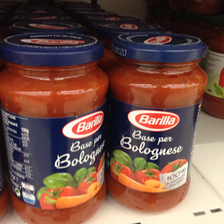tomato_sauce: (2, 31, 112, 223), (109, 31, 209, 214)
